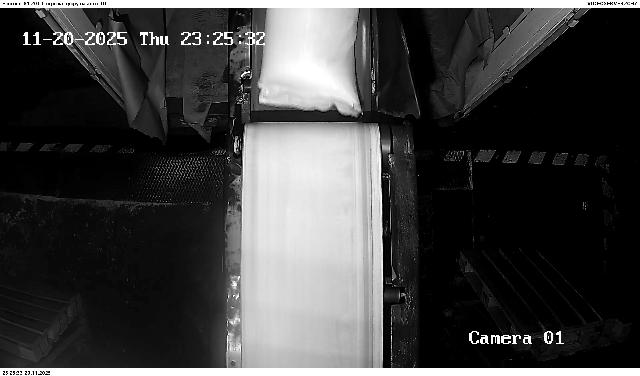bag: (258, 7, 362, 116)
